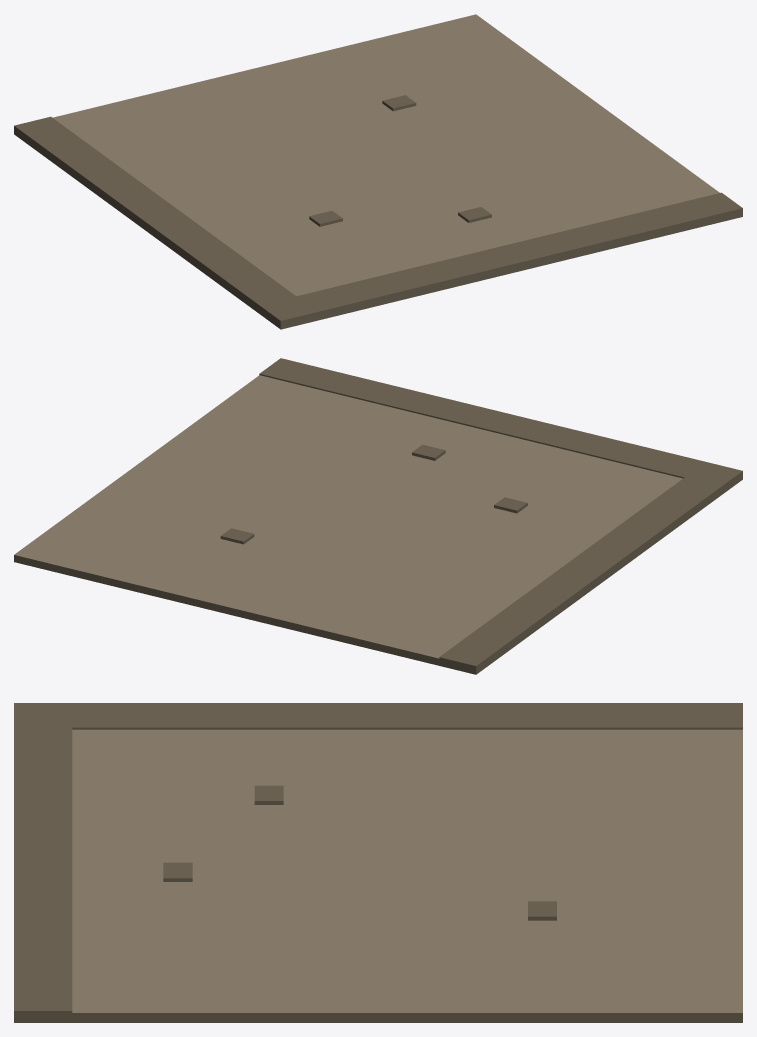
The model's file is road_corner.glb.
The picture shows the model from 3 angles, top to bottom: view 1: azimuth 30°, elevation 25°; view 2: azimuth 150°, elevation 25°; view 3: azimuth 270°, elevation 25°; orthographic projection. The views are drawn at different scales.
Visible parts, largest first — view 1: road_corner; view 2: road_corner; view 3: road_corner.
Part boxes in pixels (bbox=[...]): road_corner: bbox=[14, 14, 742, 329]; road_corner: bbox=[14, 358, 742, 674]; road_corner: bbox=[14, 703, 742, 1022].
Bounding box in the file's own units: 2 × 0.042 × 2.
